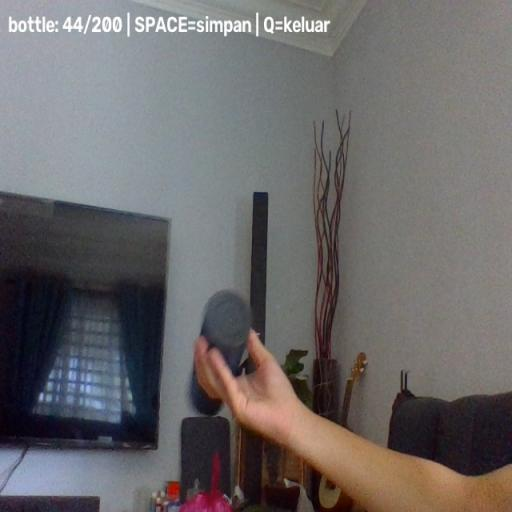Bottle: (188, 290, 254, 417)
